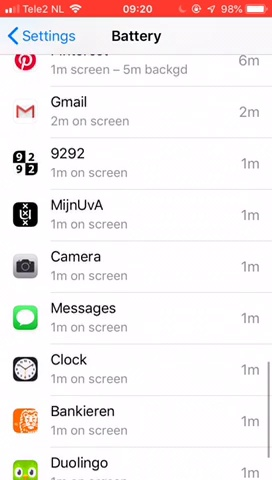app: (13, 93, 264, 129), (13, 145, 264, 181), (11, 197, 262, 233), (13, 251, 264, 287), (12, 300, 263, 336), (12, 351, 263, 387), (10, 402, 261, 438)
